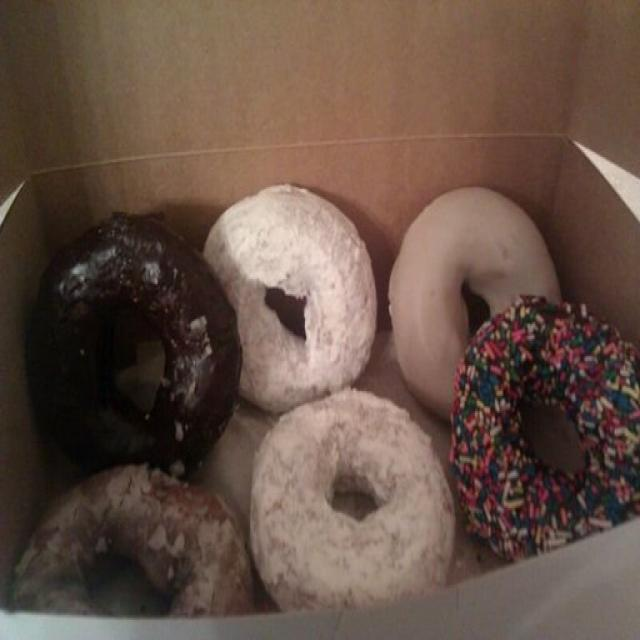Donuts: (1, 179, 640, 607)
